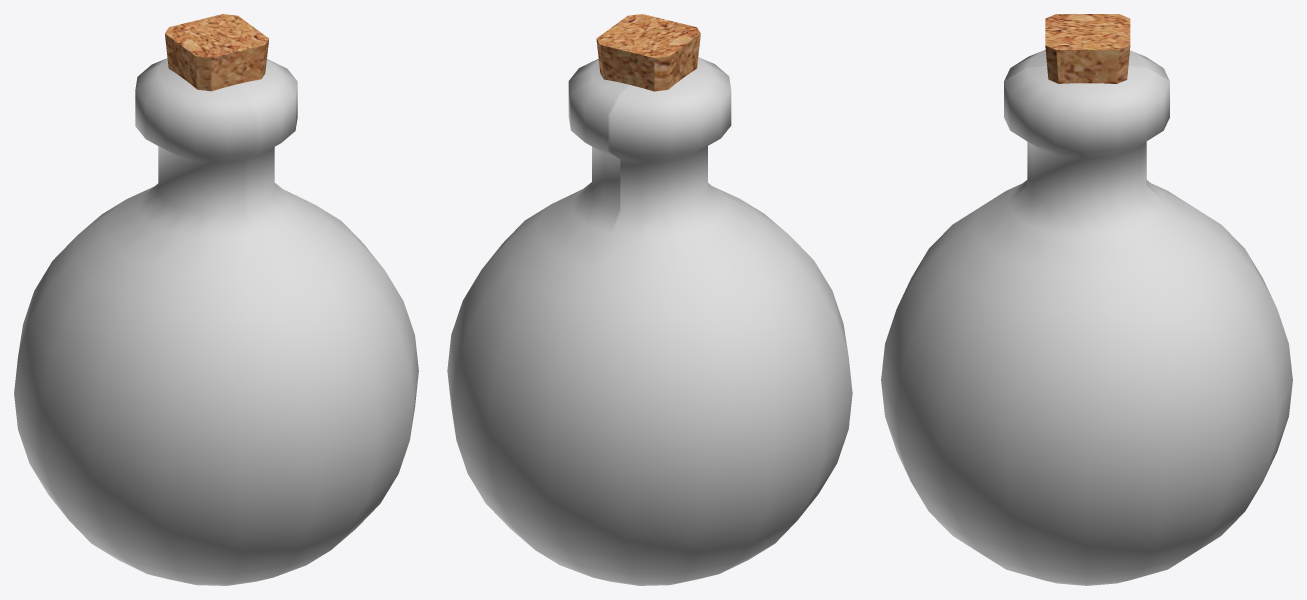
Rendered from Potion04.fbx.
The picture shows the model from 3 angles, left to right: view 1: azimuth 30°, elevation 25°; view 2: azimuth 150°, elevation 25°; view 3: azimuth 270°, elevation 25°; orthographic projection.
Visible parts, largest first — view 1: Sphere, Cube.002; view 2: Sphere, Cube.002; view 3: Sphere, Cube.002.
Part boxes in pixels (x1=…): Sphere: x1=14, y1=58, x2=418, y2=585; Cube.002: x1=165, y1=14, x2=268, y2=91; Sphere: x1=447, y1=57, x2=852, y2=585; Cube.002: x1=596, y1=14, x2=700, y2=91; Sphere: x1=881, y1=50, x2=1292, y2=585; Cube.002: x1=1045, y1=14, x2=1130, y2=83.
Bounding box in the file's own units: 1.71 × 2.45 × 1.71.
